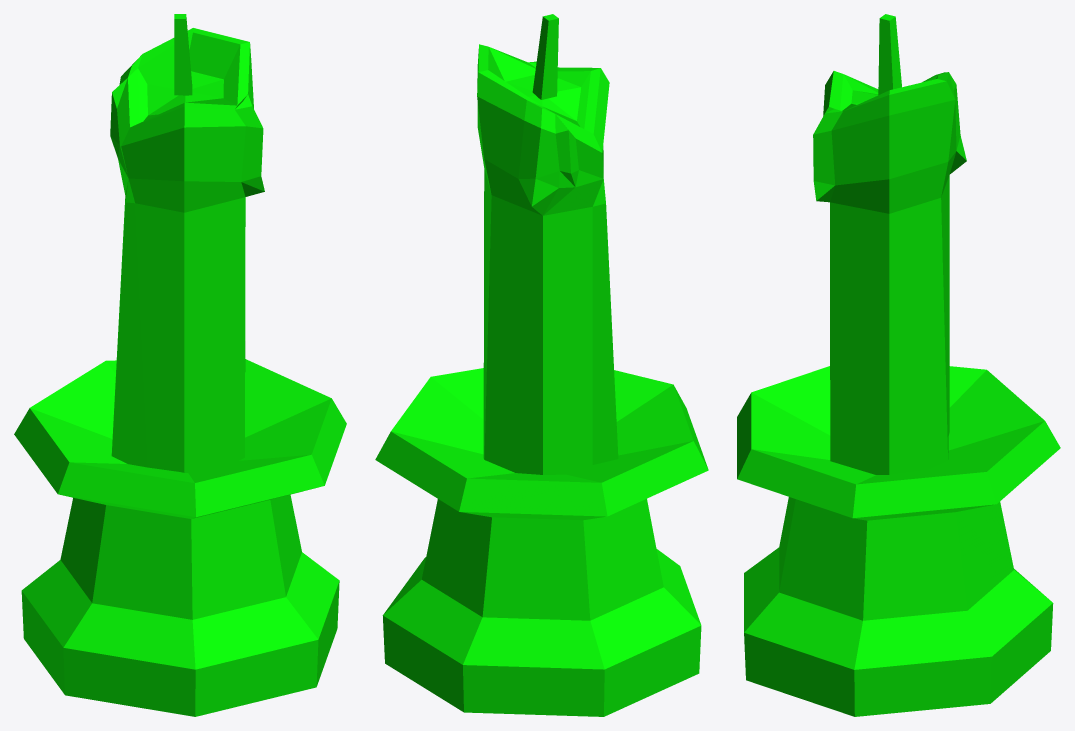
The model's file is SM_Candle_Table_A_Unlit_Fantasy.fbx.
The picture shows the model from 3 angles, left to right: view 1: azimuth 30°, elevation 25°; view 2: azimuth 150°, elevation 25°; view 3: azimuth 270°, elevation 25°; orthographic projection.
Visible parts, largest first — view 1: candle-table-a-unlit-fantasy; view 2: candle-table-a-unlit-fantasy; view 3: candle-table-a-unlit-fantasy.
Part boxes in pixels (x1,y1,x2,y2): candle-table-a-unlit-fantasy: (14,14,346,716); candle-table-a-unlit-fantasy: (375,14,708,716); candle-table-a-unlit-fantasy: (737,14,1060,716).
Bounding box in the file's own units: 0.1195 × 0.2506 × 0.1165.
